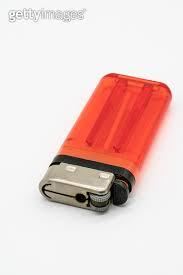lighter: (39, 72, 175, 219)
